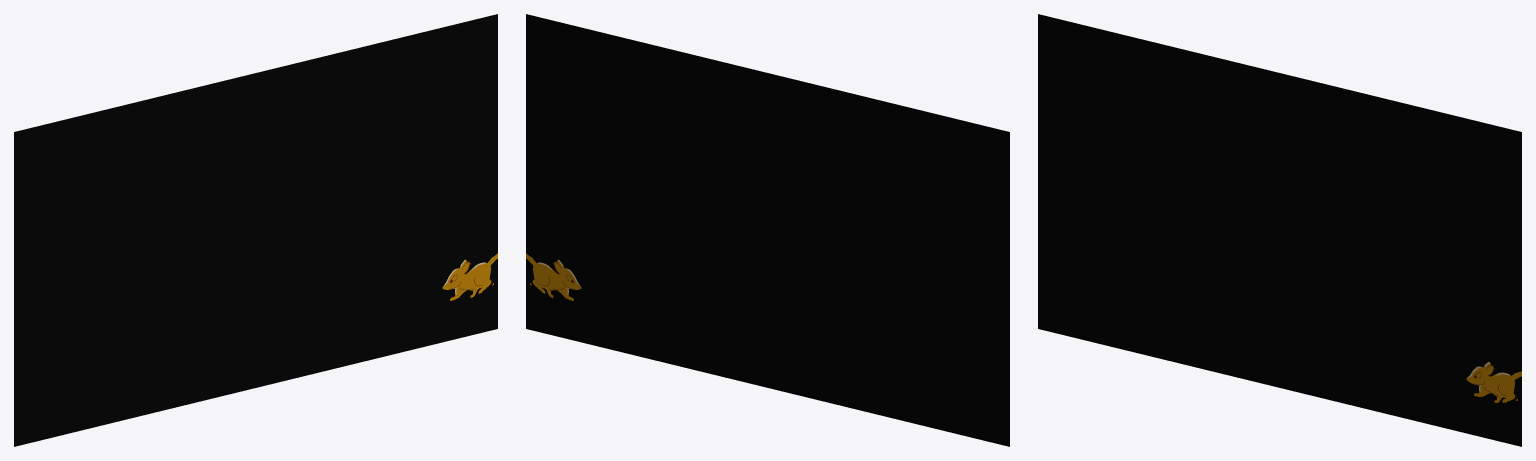
Rendered from anim_mus_plane.fbx.
3 renders of one model, left to right at view 1: azimuth 30°, elevation 25°; view 2: azimuth 150°, elevation 25°; view 3: azimuth 330°, elevation 25°, orthographic.
Visible parts, largest first — view 1: sm_mus_plane_anim; view 2: sm_mus_plane_anim; view 3: sm_mus_plane_anim.
Part boxes in pixels (x1,y1,x2,y2): sm_mus_plane_anim: [14, 14, 497, 446]; sm_mus_plane_anim: [526, 14, 1009, 446]; sm_mus_plane_anim: [1038, 14, 1521, 446].
Bounding box in the file's own units: 1.61 × 1.22e-16 × 1.
